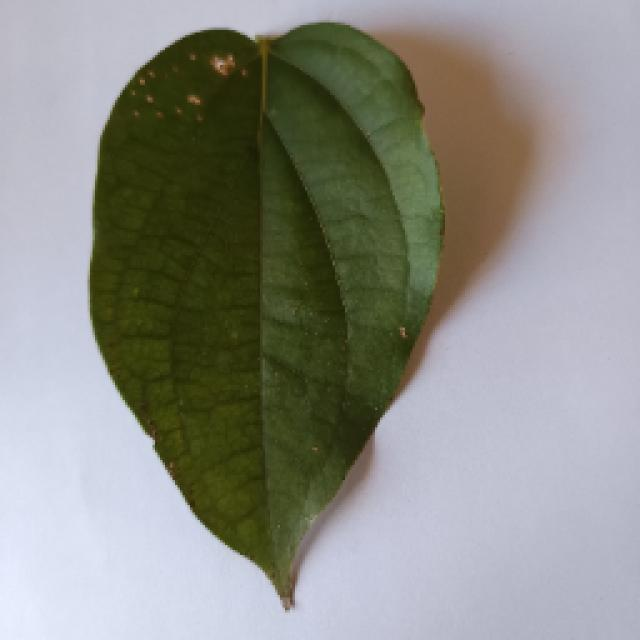pollu-disease: (72, 25, 452, 605)
